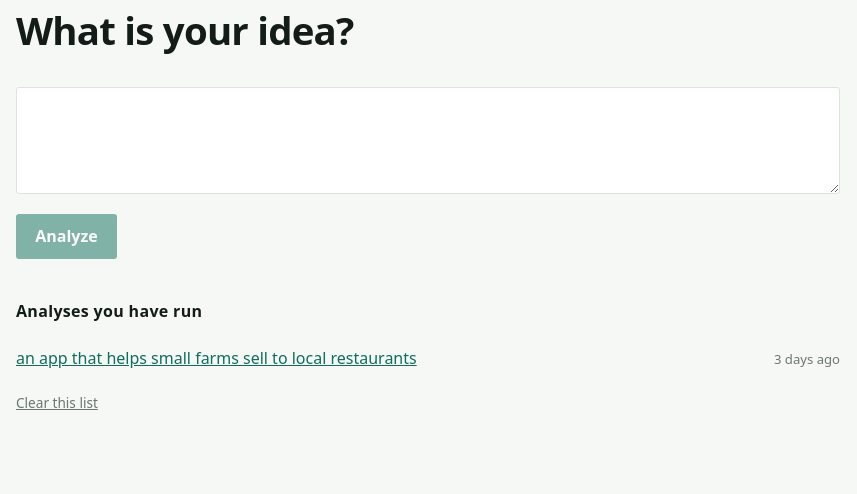
Test: the analyses this browser has run › promises it when it is
Type "something else entirely for this run" into the text box named "What is your idea?" at (428, 141), box [16, 87, 840, 194]
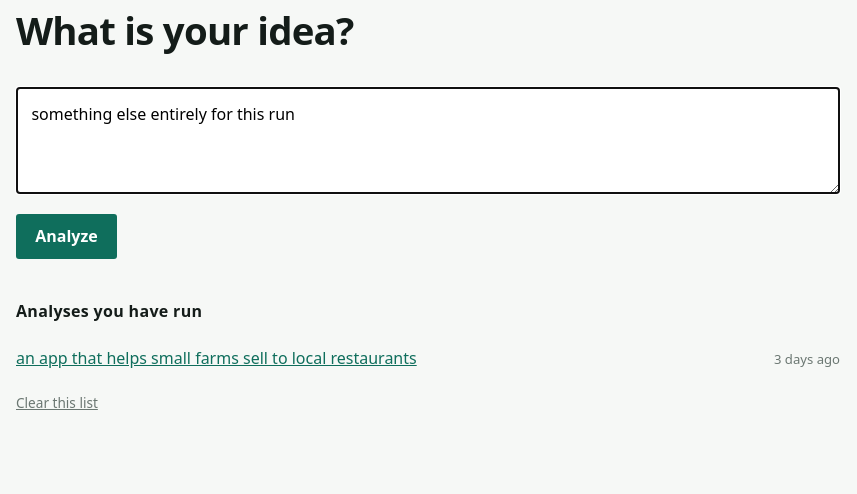
Click the button "Analyze" at (66, 236), box [16, 214, 117, 259]
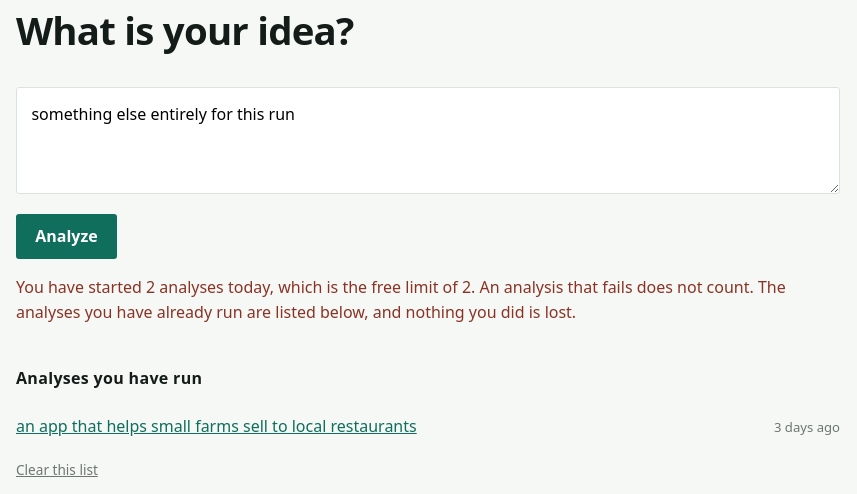
expect the link "an app that helps small farms sell to local restaurants" is shown: met, box [16, 415, 417, 437]
expect the message is shown: met, box [16, 275, 840, 326]
expect the text "listed below" is shown: met, box [16, 276, 786, 323]
